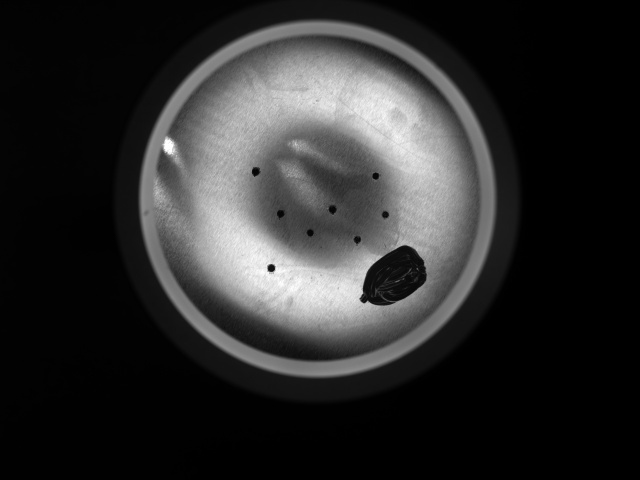zang_wu: (354, 240, 437, 321)
zhen_kong: (318, 196, 346, 229), (267, 199, 295, 230), (258, 255, 285, 285), (244, 158, 270, 187), (344, 225, 370, 253), (363, 165, 390, 191), (301, 220, 325, 249), (374, 205, 398, 227)
